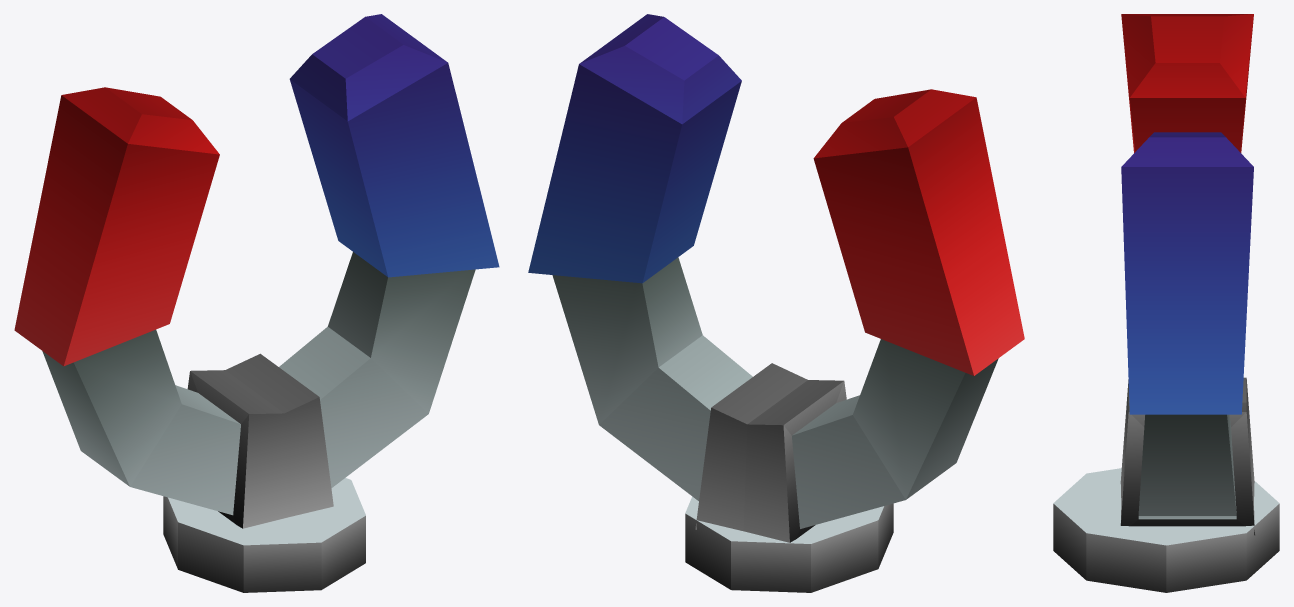
The model's file is Limb_End_Magnet.fbx.
The picture shows the model from 3 angles, left to right: view 1: azimuth 30°, elevation 25°; view 2: azimuth 150°, elevation 25°; view 3: azimuth 270°, elevation 25°; orthographic projection. The views are drawn at different scales.
Visible parts, largest first — view 1: pCylinder19; view 2: pCylinder19; view 3: pCylinder19.
Part boxes in pixels (x1,y1,x2,y2): pCylinder19: (14,14,499,592); pCylinder19: (528,14,1024,592); pCylinder19: (1053,14,1279,592).
Size of the model in its own units: 1.08 by 1.14 by 0.4926.
